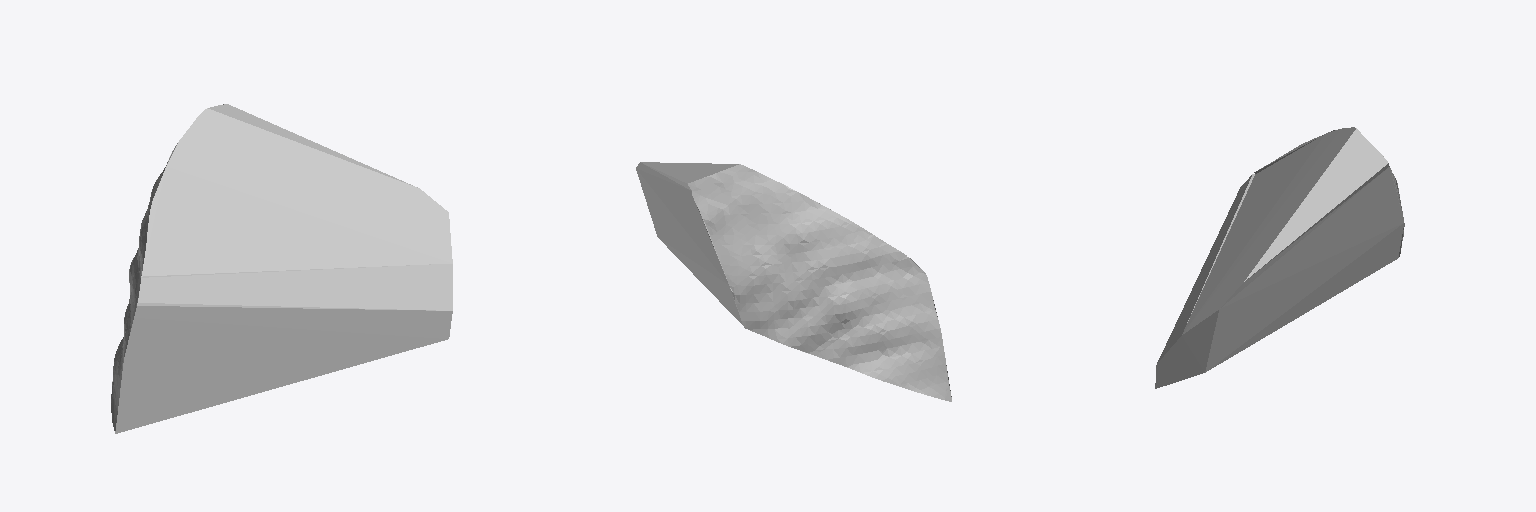
Rendered from low_cell_082.obj.
The picture shows the model from 3 angles: view 1: azimuth 30°, elevation 25°; view 2: azimuth 150°, elevation 25°; view 3: azimuth 270°, elevation 25°; orthographic projection.
Parts seen in each view (by area): view 1: low_cell.082_low_cell.081; view 2: low_cell.082_low_cell.081; view 3: low_cell.082_low_cell.081.
Boxes of the visible parts, <box> form: low_cell.082_low_cell.081: <box>111,104,452,433</box>; low_cell.082_low_cell.081: <box>636,162,951,401</box>; low_cell.082_low_cell.081: <box>1155,127,1404,388</box>.
Bounding box in the file's own units: 0.7904 × 0.5689 × 0.5253.